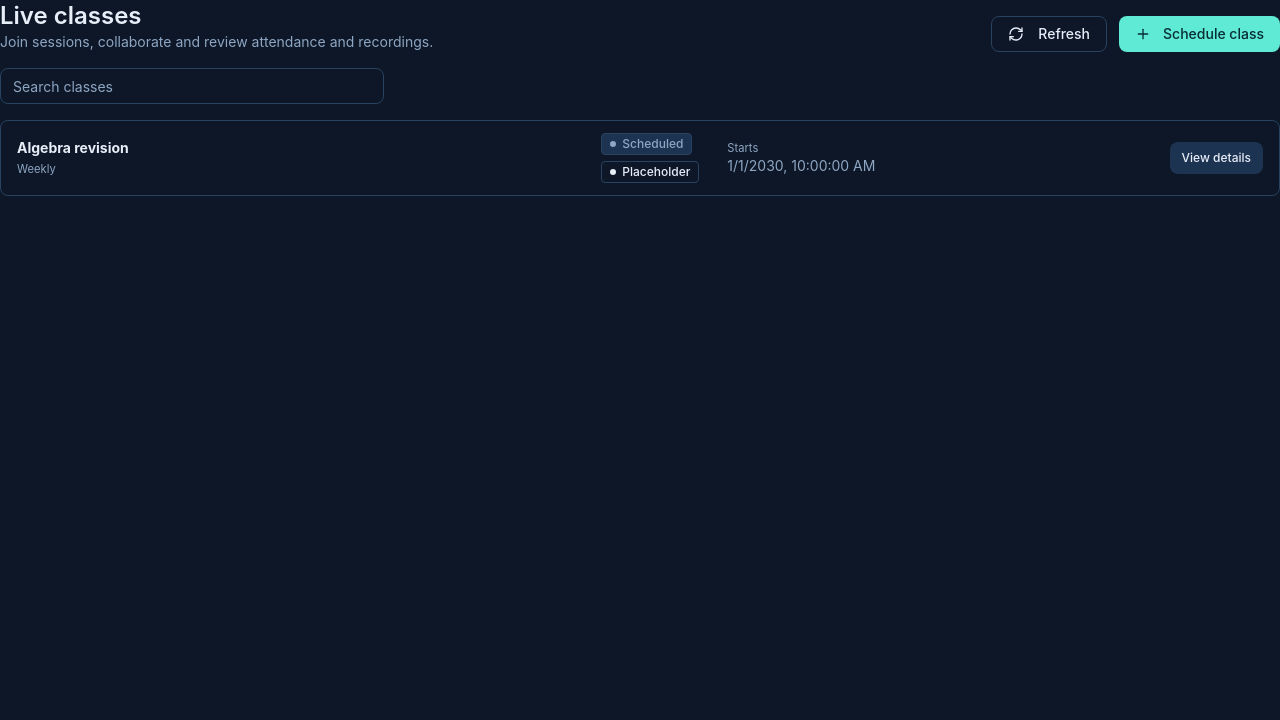
Scenario: LiveClassesPage › opens the schedule form from the button, marks required fields and blocks an empty title
Click the button "Schedule class" at x=1200, y=34, box [1119,16,1279,52]
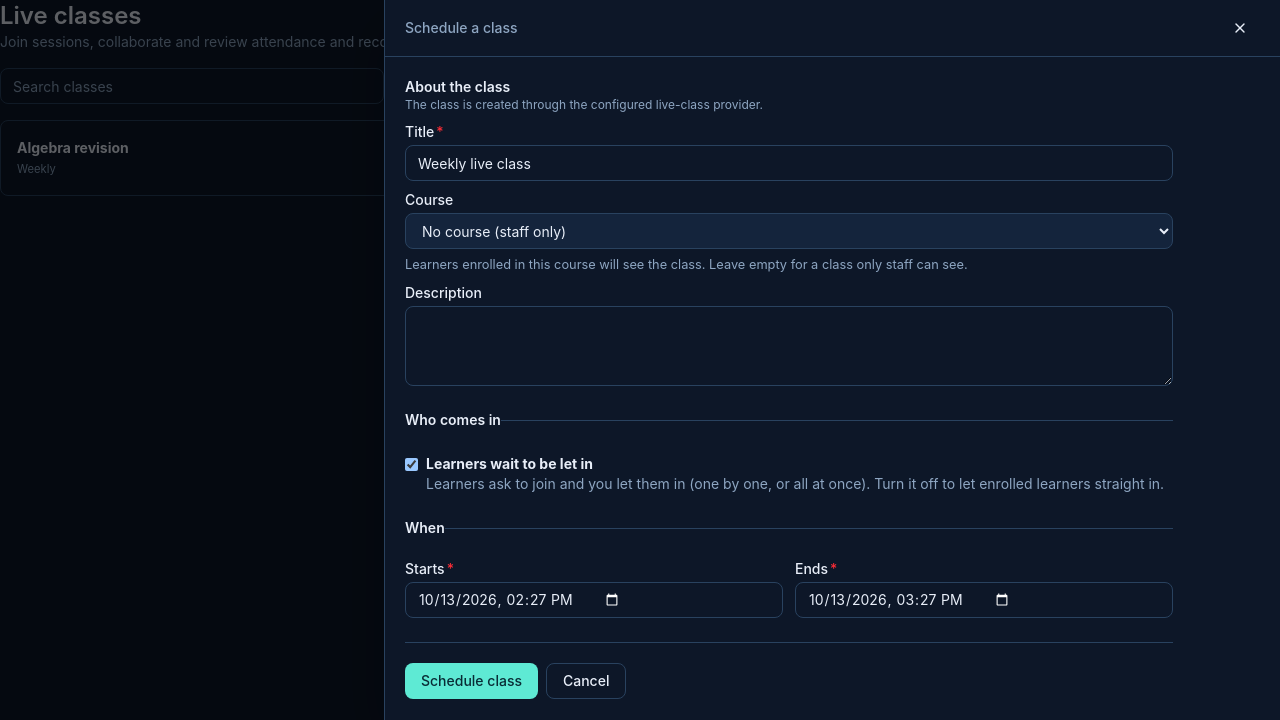
Clear the field labelled "Title" at x=789, y=163, box [405,145,1173,181]
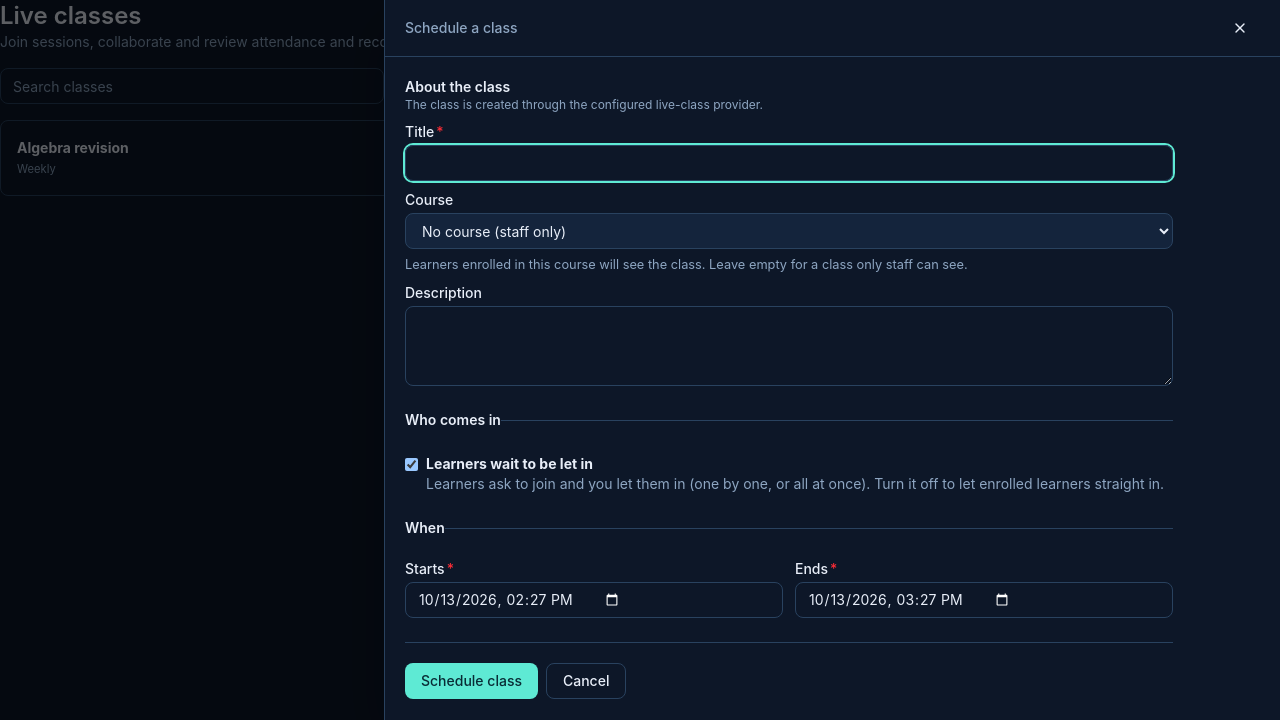
Click the button "Schedule class" at x=472, y=681, box [405,663,538,699]
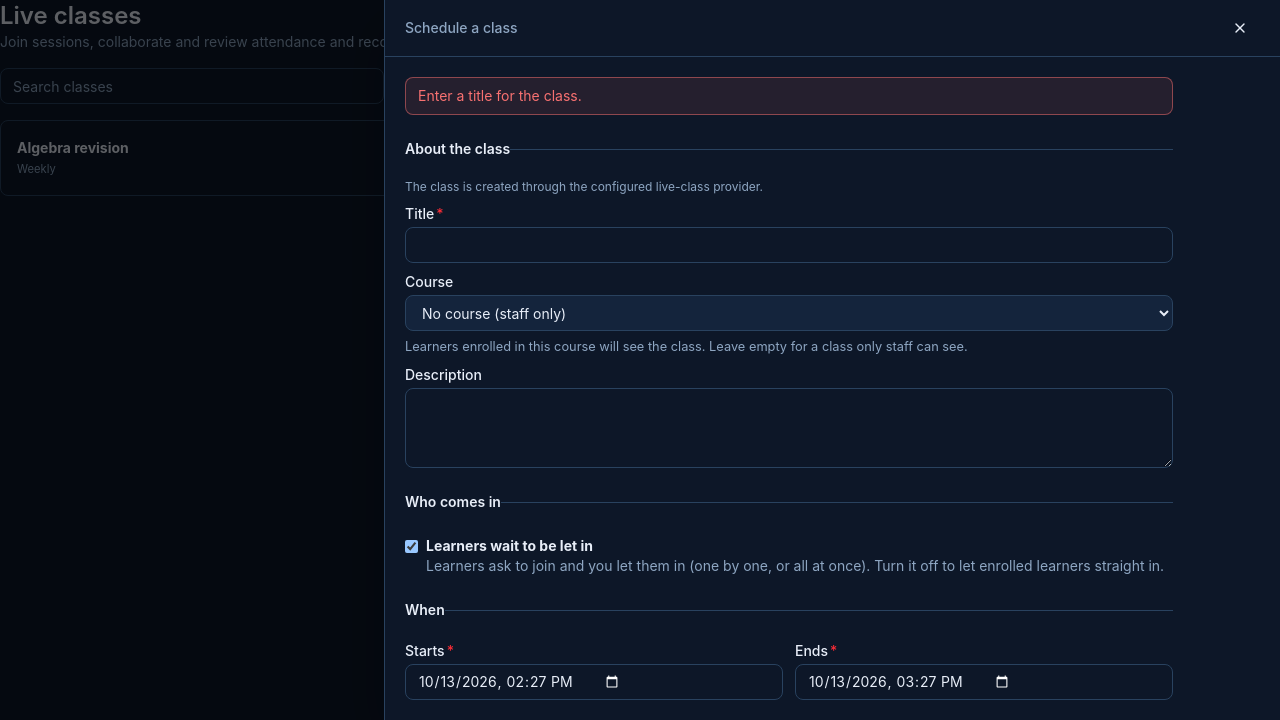
Result: the message reads "Enter a title for the class." at [418,87,582,104]
